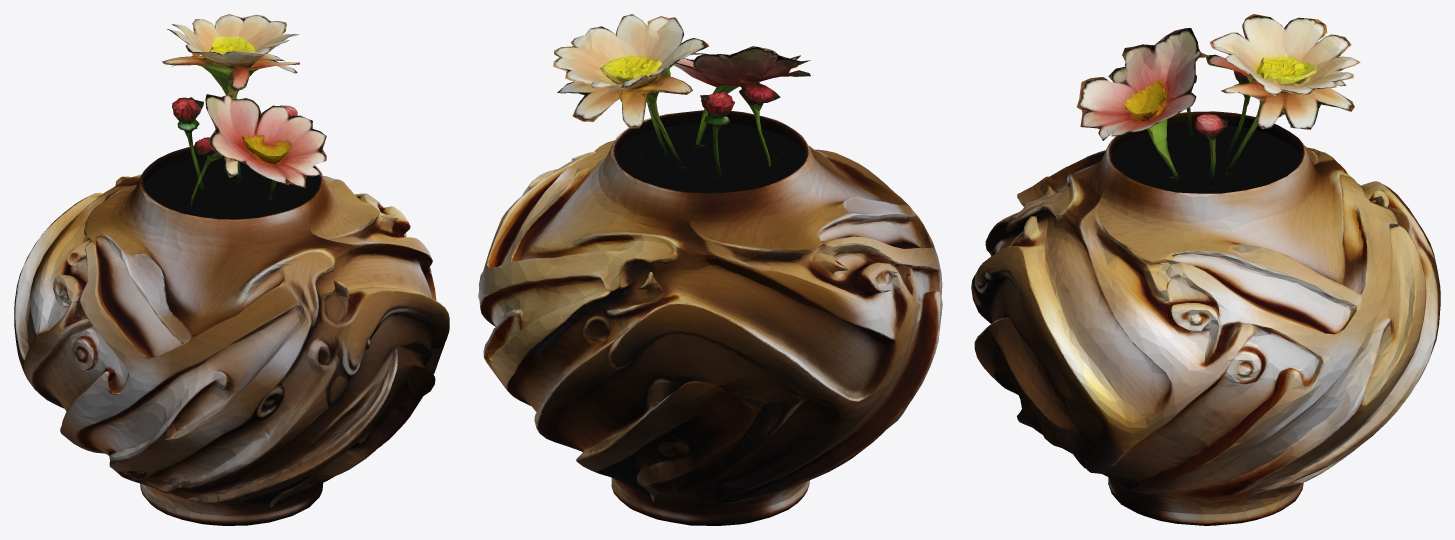
File: wooden-flower-vase-3d.jpeg.glb
3 renders of one model, left to right at view 1: azimuth 30°, elevation 25°; view 2: azimuth 150°, elevation 25°; view 3: azimuth 270°, elevation 25°, orthographic. The views are drawn at different scales.
Parts seen in each view (by area): view 1: world; view 2: world; view 3: world.
Part boxes in pixels (<box>): world: <box>14,14,449,525</box>; world: <box>478,14,942,525</box>; world: <box>971,14,1440,525</box>.
Bounding box in the file's own units: 0.9183 × 0.9972 × 0.9184.
Materials: 1 (1 with a texture image).
